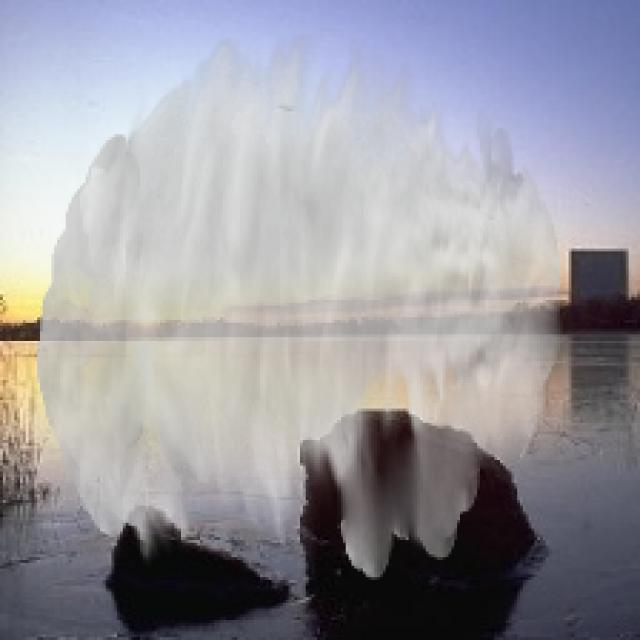Smoke: (37, 34, 563, 580)
